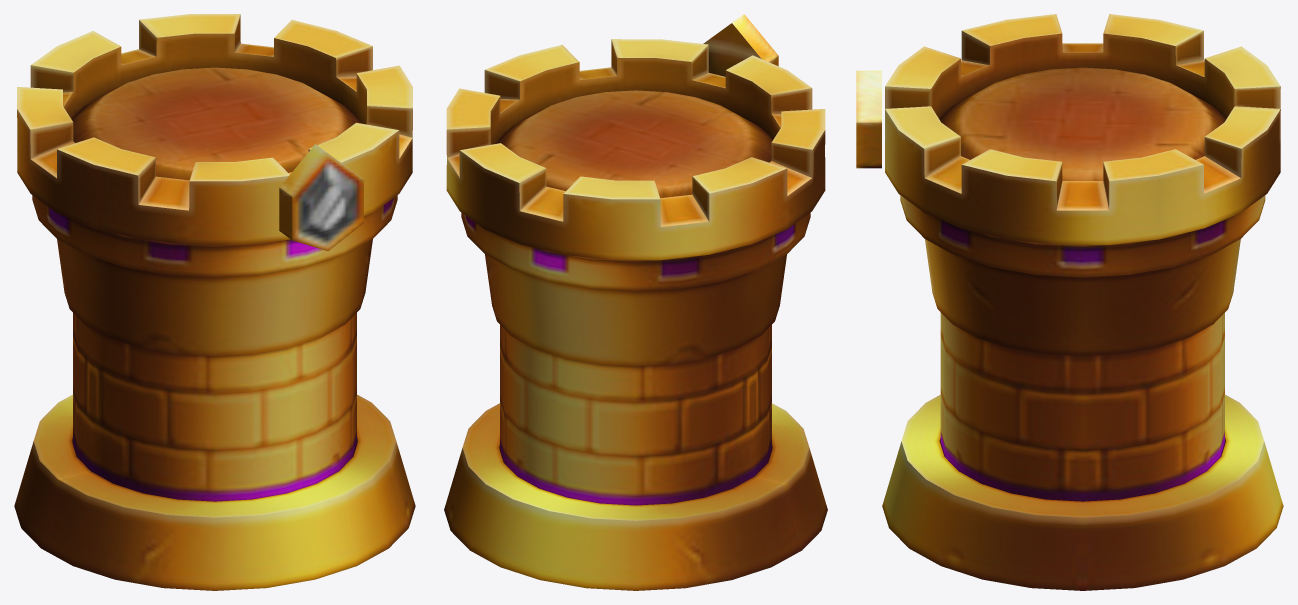
The model's file is queen_ALL_01.fbx.
The picture shows the model from 3 angles, left to right: view 1: azimuth 30°, elevation 25°; view 2: azimuth 150°, elevation 25°; view 3: azimuth 270°, elevation 25°; orthographic projection. The views are drawn at different scales.
Visible parts, largest first — view 1: queen_color; view 2: queen_color; view 3: queen_color.
Boxes of the visible parts, x1,y1,x2,y2 form: queen_color: [14, 14, 415, 590]; queen_color: [444, 14, 827, 590]; queen_color: [856, 14, 1283, 590].
Size of the model in its own units: 14.32 by 17.15 by 15.24.
Materials: 2 (2 with a texture image).
